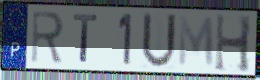1: (116, 13, 133, 68)
H: (213, 12, 253, 75)
M: (177, 15, 216, 69)
R: (29, 9, 66, 65)
T: (72, 13, 100, 65)
U: (139, 11, 178, 71)
